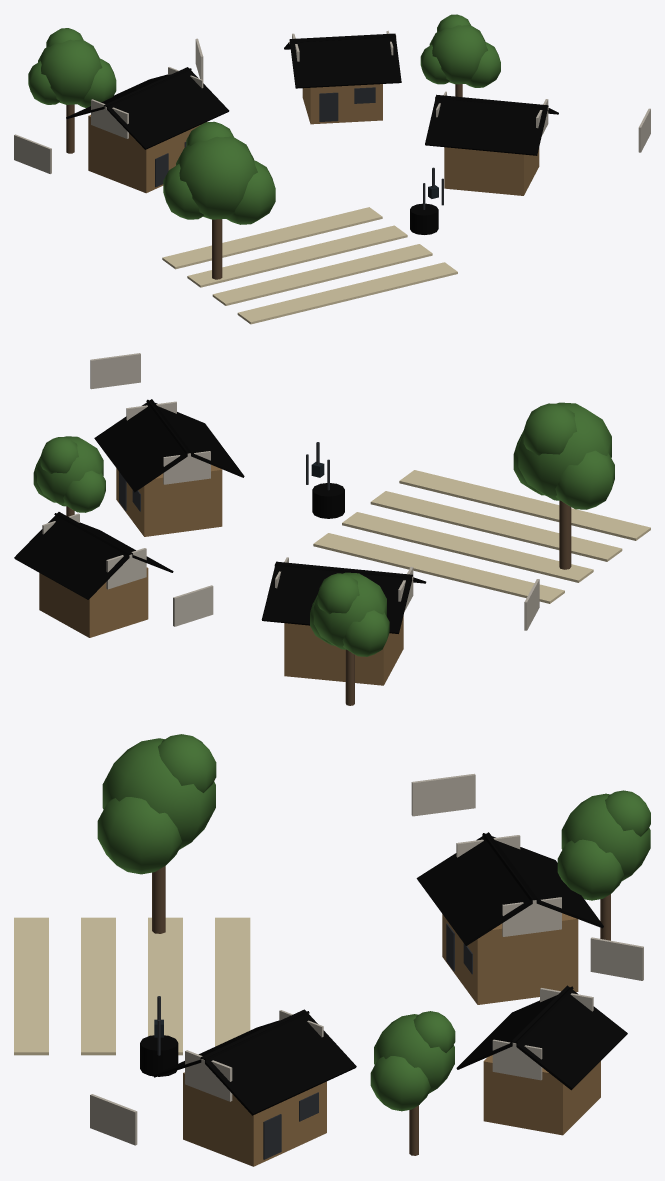
File: rural.glb
The picture shows the model from 3 angles, top to bottom: view 1: azimuth 30°, elevation 25°; view 2: azimuth 150°, elevation 25°; view 3: azimuth 270°, elevation 25°; orthographic projection. The views are drawn at different scales.
Visible parts, largest first — view 1: cropRow (×4), hutWall (×3), object 28, object 17, object 5, object 47, object 52, object 57, object 48, object 49, object 10, object 53 (+9 smaller); view 2: cropRow (×4), hutWall (×3), object 16, object 29, object 4, object 47, object 49, object 52, object 50, object 28, object 57, object 54 (+12 smaller); view 3: hutWall (×3), cropRow (×4), object 29, object 5, object 16, object 47, object 48, object 52, object 4, object 53, object 57, object 58 (+14 smaller).
Boxes of the visible parts, left/top/right/bottom form: cropRow (×4): left=162, top=207, right=457, bottom=324; hutWall (×3): left=88, top=84, right=539, bottom=195; object 28: left=425, top=94, right=548, bottom=155; object 17: left=289, top=33, right=401, bottom=88; object 5: left=104, top=67, right=229, bottom=149; object 47: left=176, top=136, right=257, bottom=219; object 52: left=38, top=39, right=102, bottom=104; object 57: left=429, top=25, right=487, bottom=84; object 48: left=227, top=160, right=275, bottom=224; object 49: left=163, top=164, right=203, bottom=219; object 10: left=14, top=134, right=51, bottom=173; object 53: left=78, top=58, right=116, bottom=107; cropRow (×4): left=313, top=470, right=650, bottom=603; hutWall (×3): left=39, top=464, right=403, bottom=685; object 16: left=14, top=512, right=132, bottom=599; object 29: left=94, top=399, right=192, bottom=492; object 4: left=261, top=561, right=412, bottom=633; object 47: left=518, top=402, right=611, bottom=500; object 49: left=555, top=450, right=614, bottom=509; object 52: left=313, top=572, right=386, bottom=649; object 50: left=523, top=403, right=576, bottom=455; object 28: left=146, top=399, right=244, bottom=477; object 57: left=37, top=436, right=103, bottom=506; object 54: left=342, top=610, right=389, bottom=656; hutWall (×3): left=183, top=913, right=600, bottom=1166; cropRow (×4): left=14, top=917, right=250, bottom=1055; object 29: left=200, top=1009, right=356, bottom=1115; object 5: left=416, top=832, right=537, bottom=945; object 16: left=511, top=985, right=627, bottom=1090; object 47: left=102, top=738, right=215, bottom=849; object 48: left=97, top=797, right=181, bottom=874; object 52: left=561, top=793, right=650, bottom=880; object 4: left=482, top=833, right=603, bottom=928; object 53: left=557, top=839, right=623, bottom=900; object 57: left=374, top=1014, right=454, bottom=1093; object 58: left=370, top=1056, right=430, bottom=1111.
Size of the model in its own units: 24.61 by 6.86 by 19.96.
